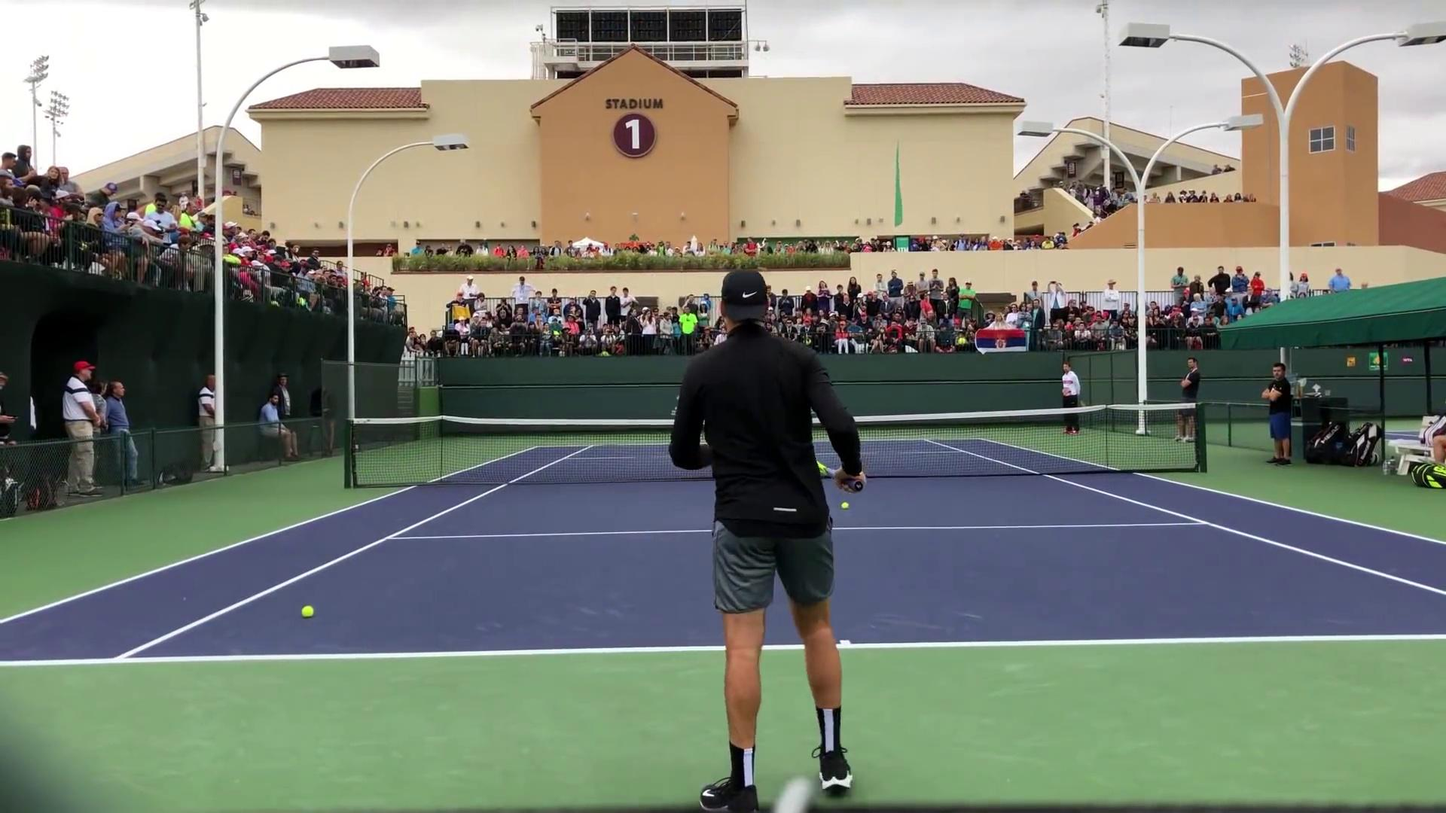ball: (301, 604, 315, 618), (840, 502, 850, 510)
